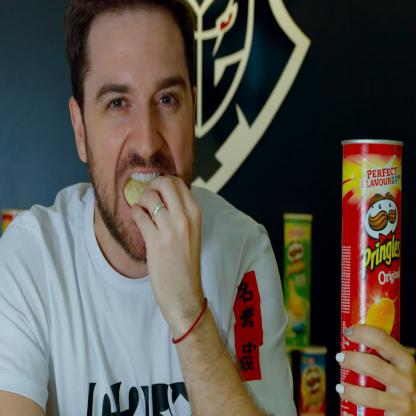potatochip: (336, 128, 410, 415), (277, 202, 318, 356), (297, 341, 329, 415)
